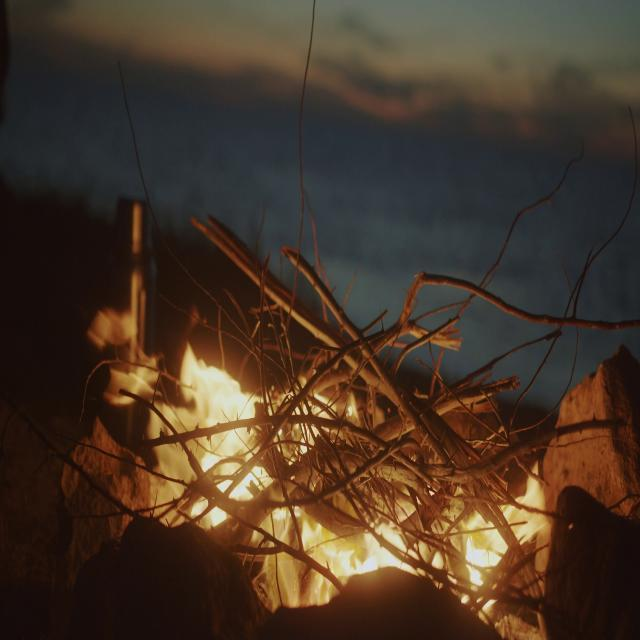Fire: (156, 338, 327, 608), (338, 465, 559, 617)
